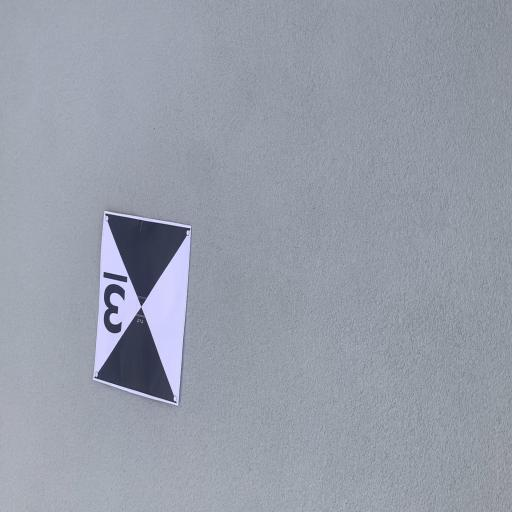target3: (92, 210, 191, 409)
